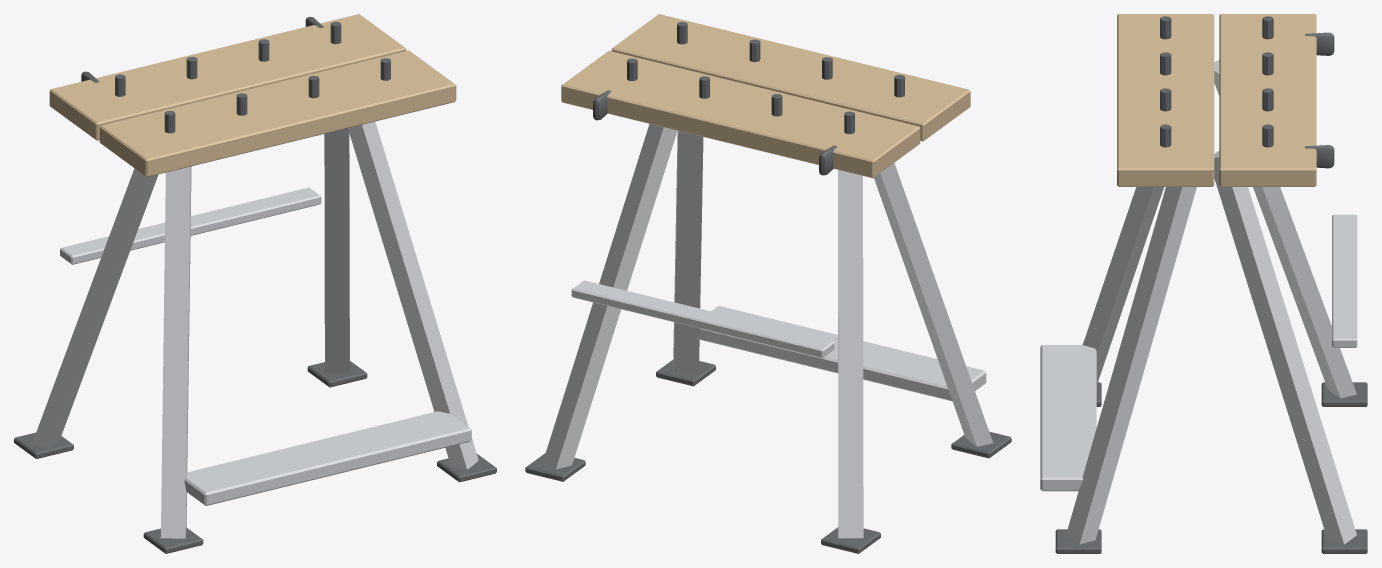
3 views of the same model, side by side, from view 1: azimuth 30°, elevation 25°; view 2: azimuth 150°, elevation 25°; view 3: azimuth 270°, elevation 25° (orthographic). The views are drawn at different scales.
Parts seen in each view (by area): view 1: work-bench; view 2: work-bench; view 3: work-bench.
Boxes of the visible parts, <box> form: work-bench: <box>14,14,496,553</box>; work-bench: <box>525,14,1011,553</box>; work-bench: <box>1040,14,1367,553</box>.
Bounding box in the file's own units: 0.77 × 0.8659 × 0.64.
